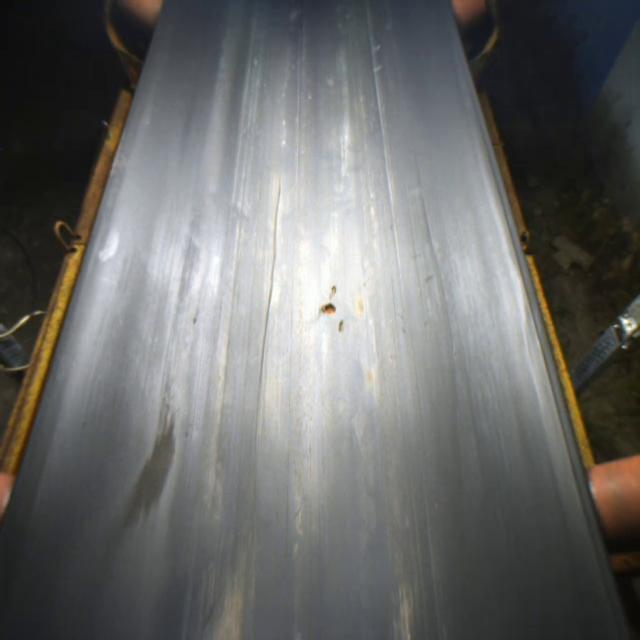Hole: (318, 299, 340, 321)
Tear: (236, 175, 291, 560)
Wear: (112, 388, 192, 536)
